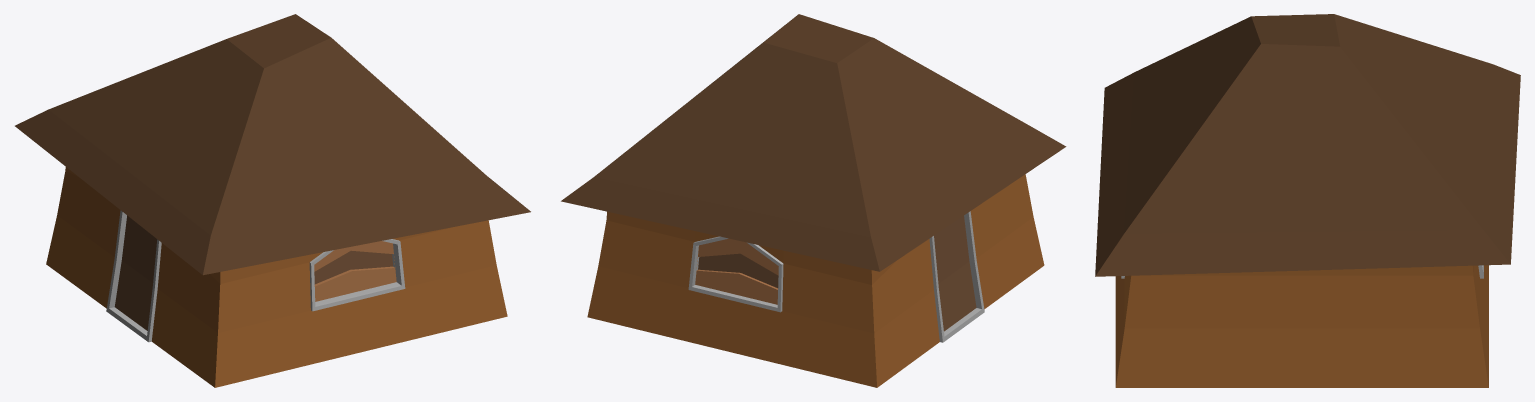
The model's file is Hut4.fbx.
3 views of the same model, side by side, from view 1: azimuth 30°, elevation 25°; view 2: azimuth 150°, elevation 25°; view 3: azimuth 270°, elevation 25° (orthographic). The views are drawn at different scales.
Parts seen in each view (by area): view 1: Cone, Cylinder; view 2: Cone, Cylinder; view 3: Cone, Cylinder.
Part boxes in pixels (left/top/right/bottom): Cone: left=15, top=14, right=530, bottom=275; Cylinder: left=46, top=167, right=507, bottom=387; Cone: left=561, top=14, right=1066, bottom=271; Cylinder: left=587, top=174, right=1044, bottom=387; Cone: left=1095, top=14, right=1520, bottom=276; Cylinder: left=1115, top=265, right=1488, bottom=387.
Size of the model in its own units: 2000 by 1506 by 2041.
